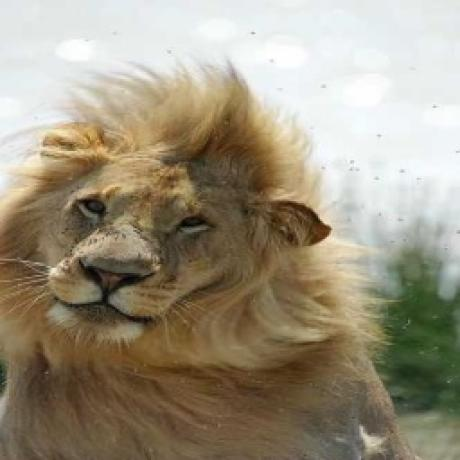Lion: (0, 52, 394, 460)
